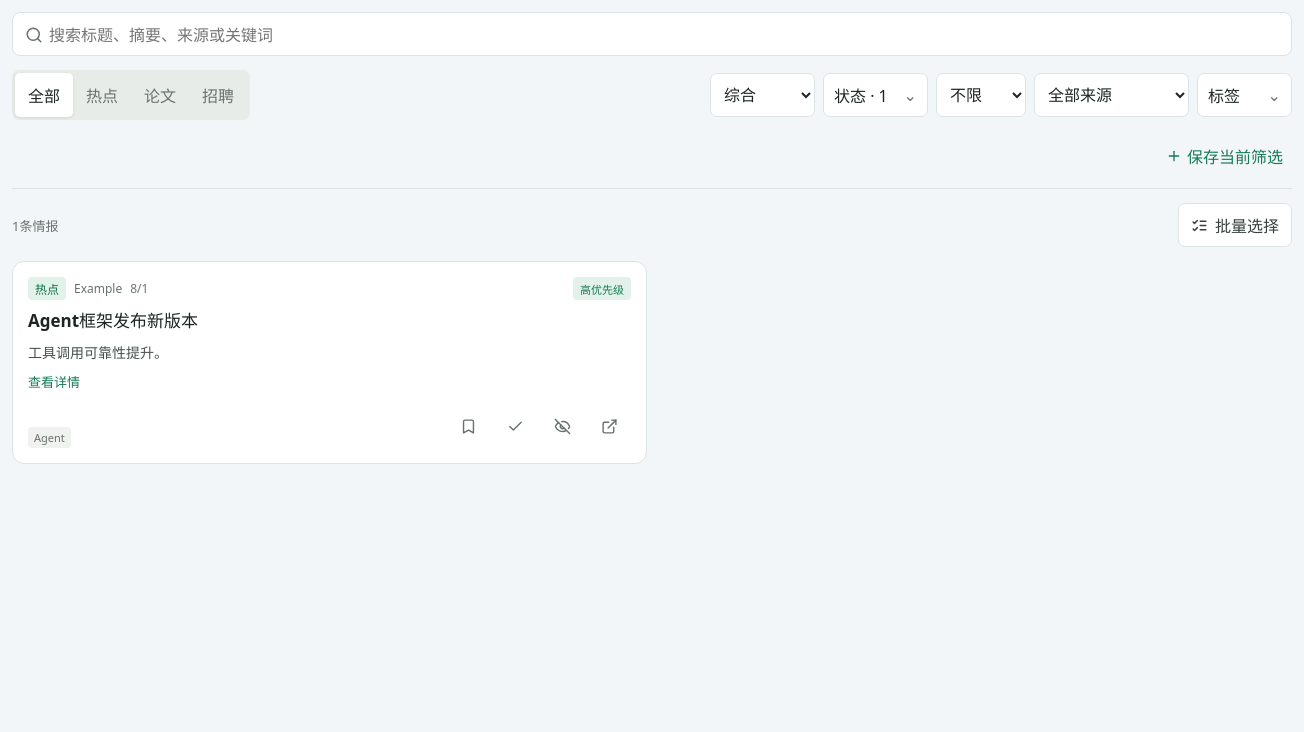
Test: 选择当前页情报并批量收藏
Expected: the heading "Agent框架发布新版本" is shown, top-left (28, 309), bottom-right (198, 332)
Click the button "批量选择" at x=1235, y=225, box top-left (1178, 203), bottom-right (1292, 247)
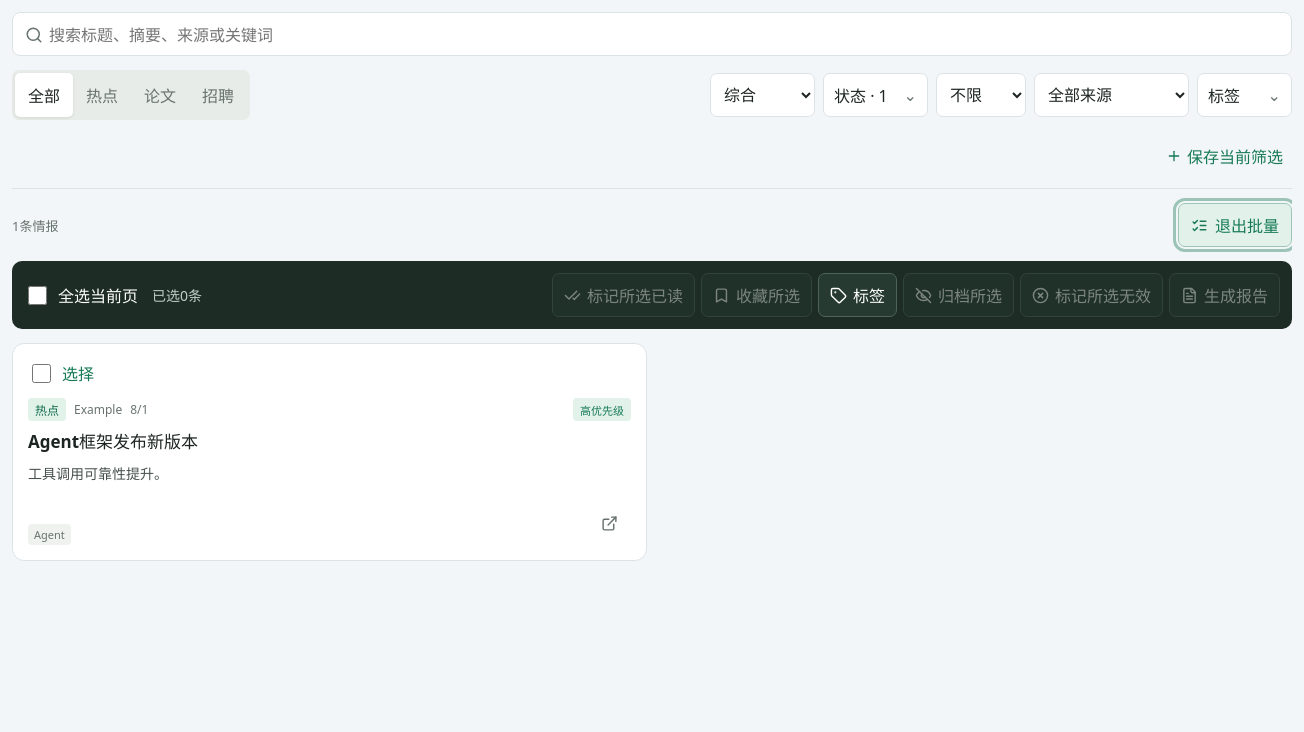
Click the checkbox named "选择Agent框架发布新版本" at x=42, y=373, box top-left (32, 364), bottom-right (51, 382)
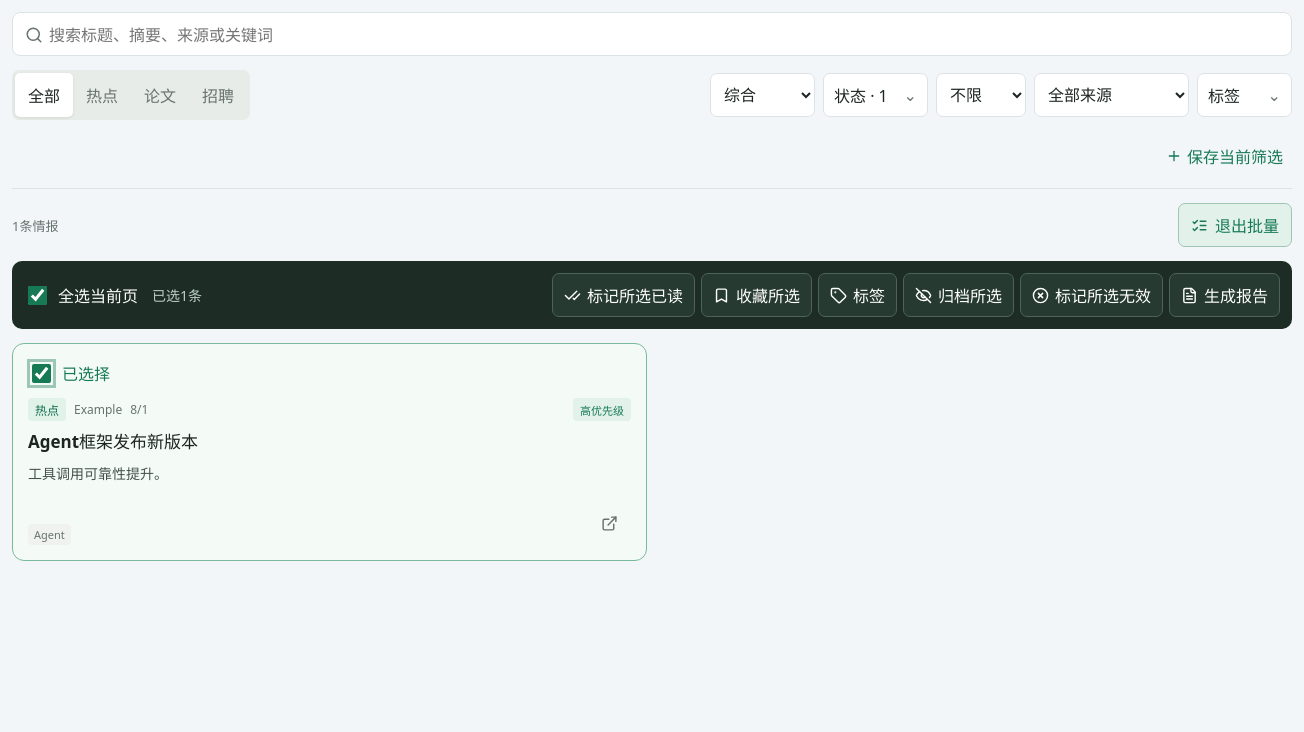
Click the button "收藏所选" at x=756, y=295, box top-left (701, 273), bottom-right (812, 317)
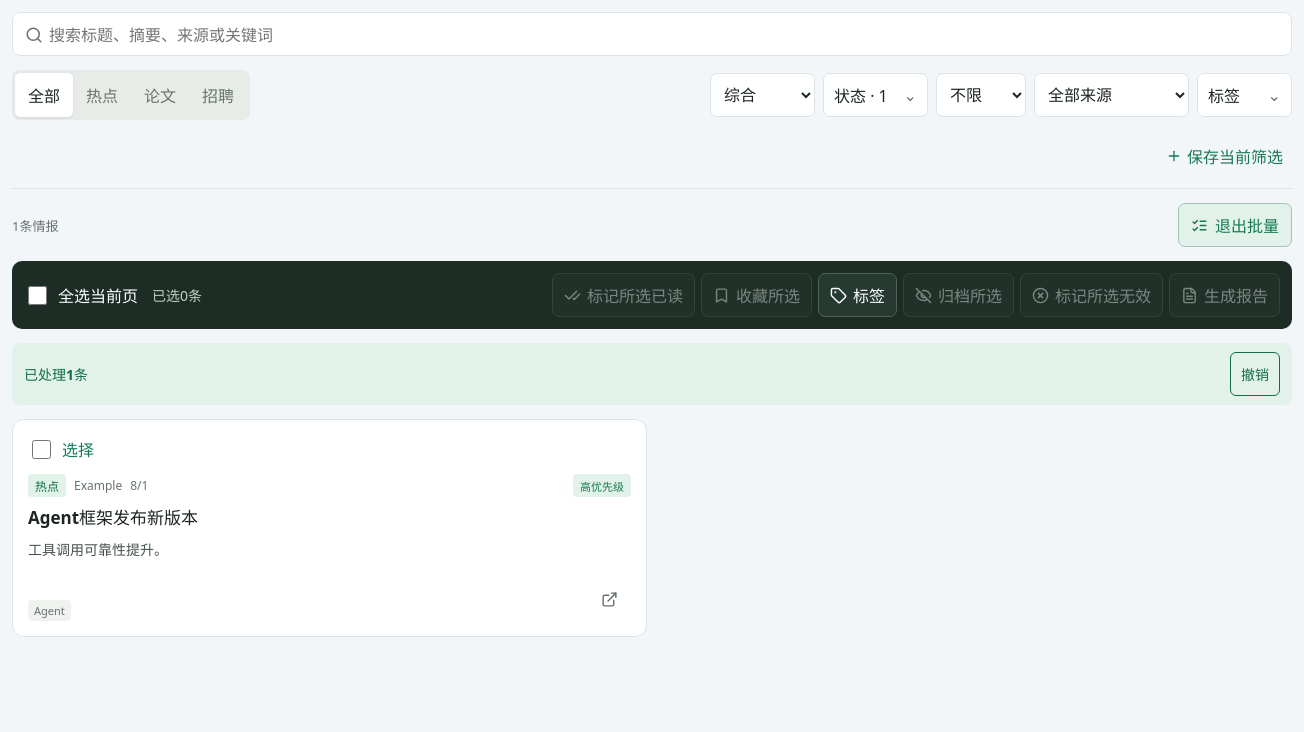
Now the message shows "已处理1条", box top-left (24, 365), bottom-right (88, 384)
